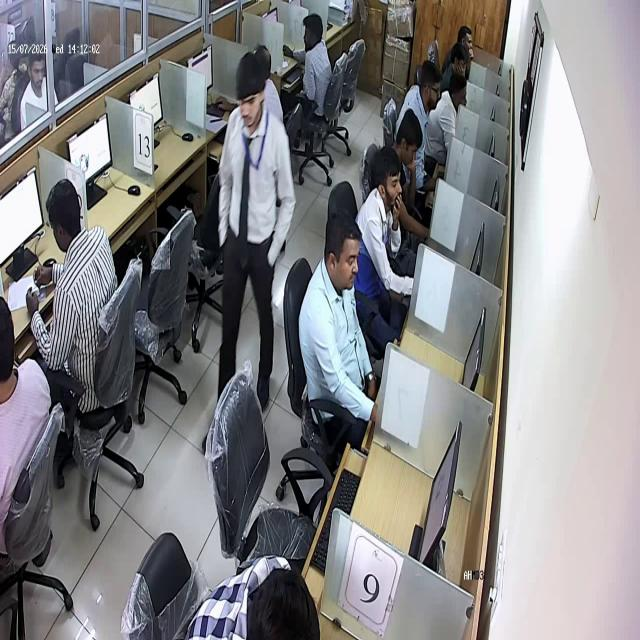paper-chit: (27, 278, 41, 297)
